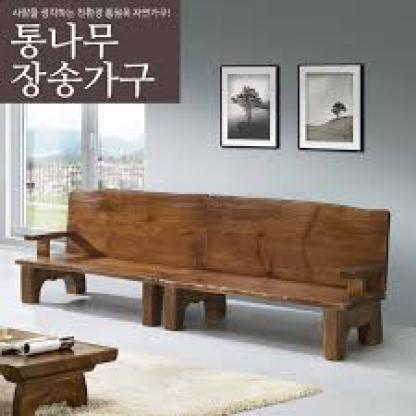sofa: (18, 190, 407, 344)
